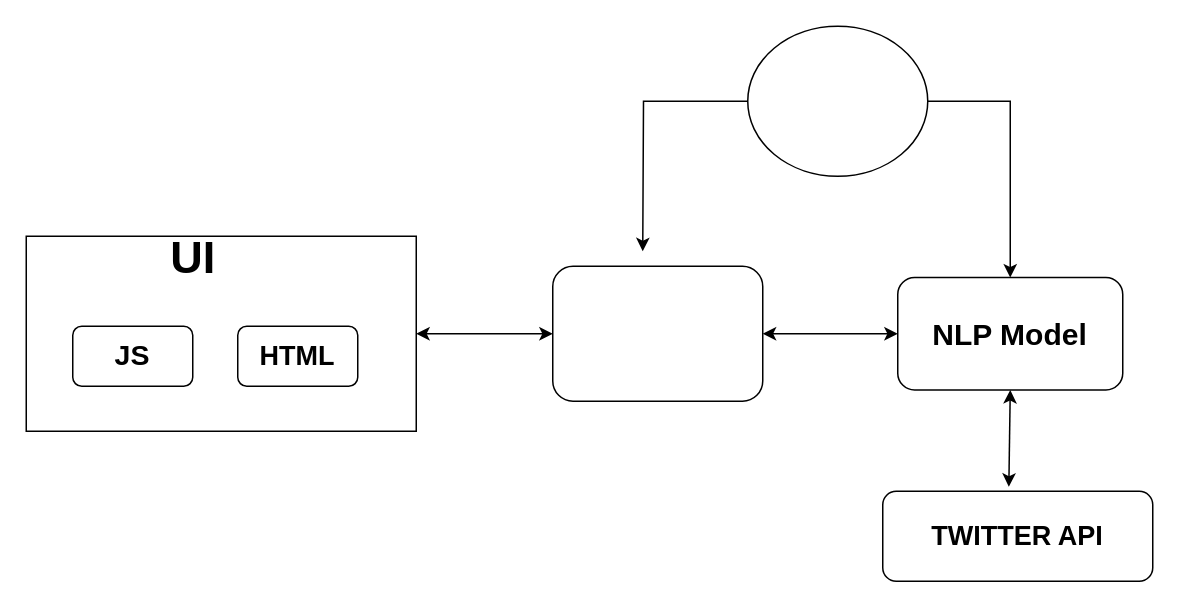
This 1179x608 diagram has some shape labels left out. Each missing label, with the box of its shape:
DJANGO REST API: (551, 265, 763, 401)
Hashtags and Tweets: (746, 25, 928, 176)
